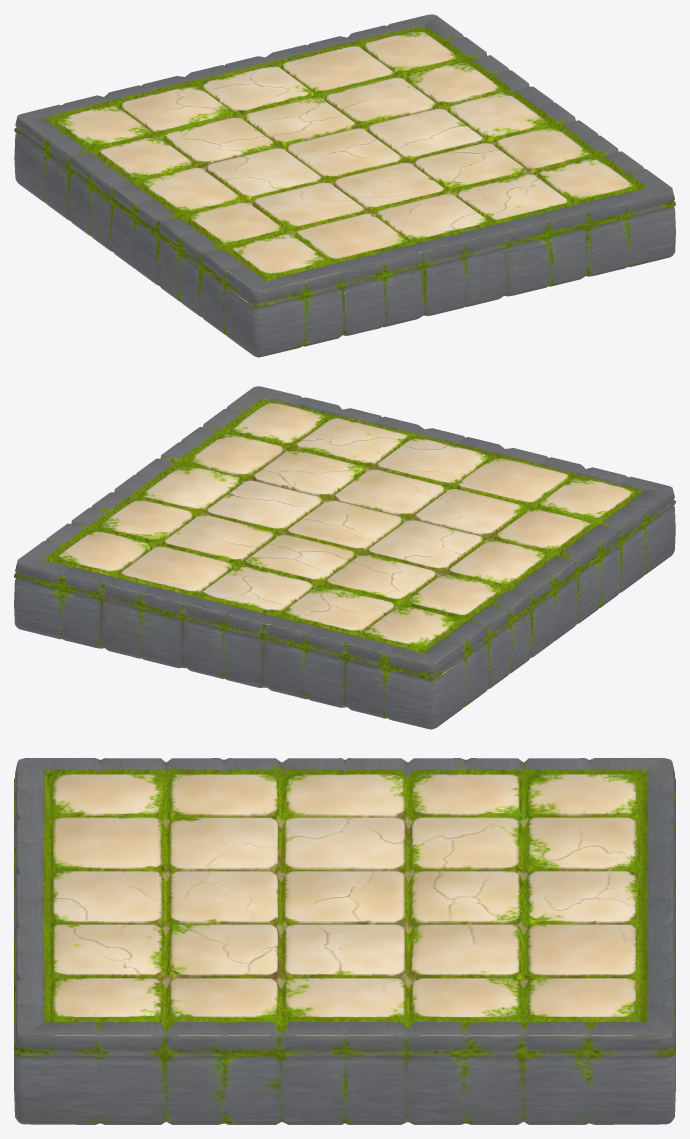
The picture shows the model from 3 angles, top to bottom: view 1: azimuth 30°, elevation 25°; view 2: azimuth 150°, elevation 25°; view 3: azimuth 270°, elevation 25°; orthographic projection. The views are drawn at different scales.
Parts seen in each view (by area): view 1: Stone_Paver_Tile_Optimized; view 2: Stone_Paver_Tile_Optimized; view 3: Stone_Paver_Tile_Optimized.
Boxes of the visible parts, bbox=[...] form: Stone_Paver_Tile_Optimized: bbox=[14, 14, 675, 357]; Stone_Paver_Tile_Optimized: bbox=[14, 386, 675, 729]; Stone_Paver_Tile_Optimized: bbox=[14, 758, 675, 1124].
Size of the model in its own units: 0.8535 by 0.1319 by 0.8536.
Materials: 1 (1 with a texture image).
